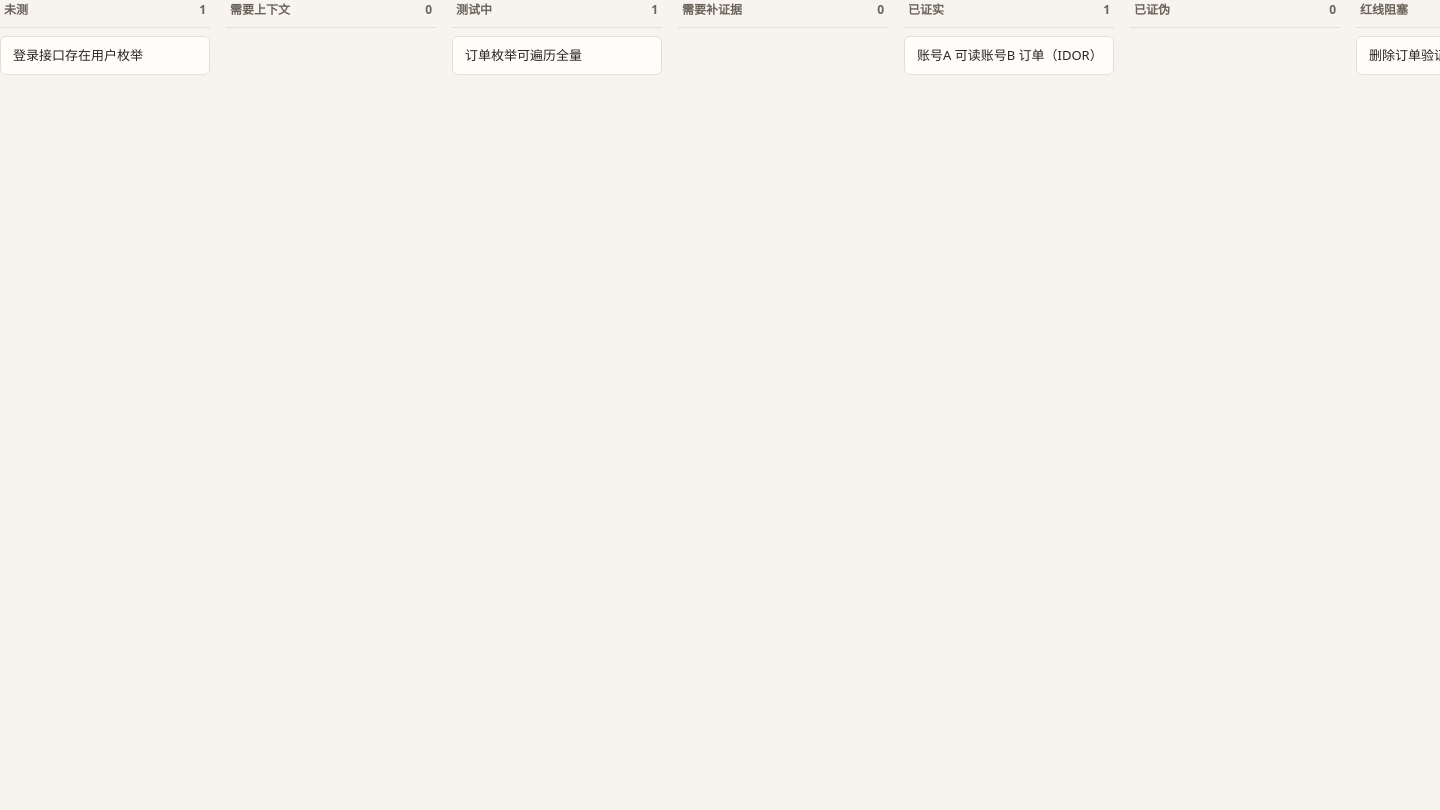
Test: HypothesesPage（§16.6） › 看板分列 + 卡片详情
Expected: the text "已证实" is shown, [908,0,944,19]
Expected: the text "红线阻塞" is shown, [1360,0,1408,19]
Click the text "账号A 可读账号B 订单（IDOR）" at (1009, 56), box [904,36,1114,75]
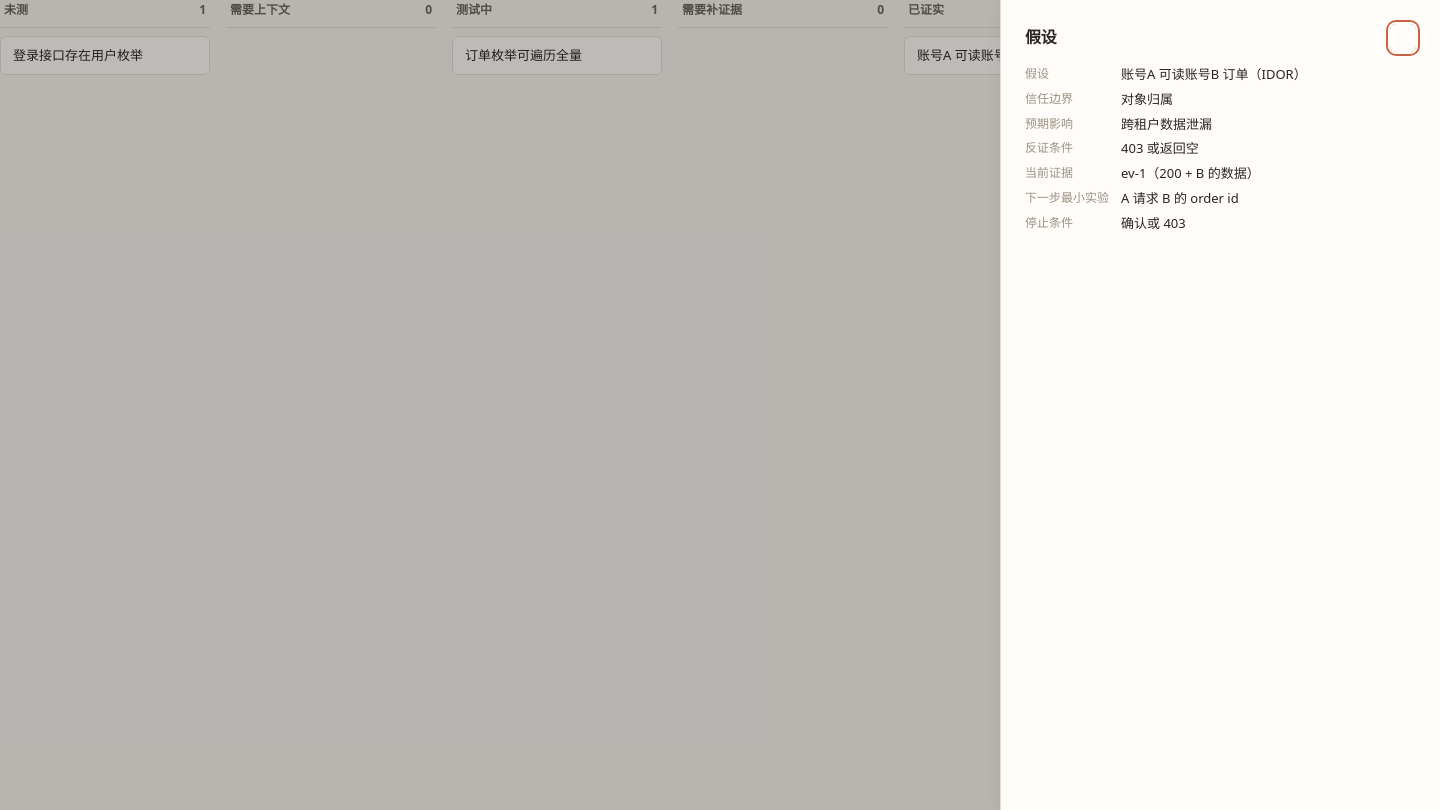
Expected: the dialog is shown, [1000,0,1439,809]
Expected: the text "对象归属" is shown, [1121,90,1173,108]
